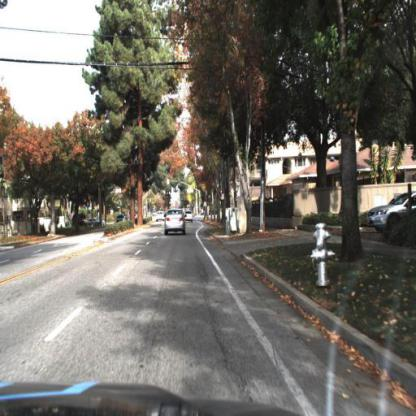car: (369, 193, 416, 240), (159, 203, 194, 244), (182, 204, 196, 225), (113, 211, 128, 228), (156, 212, 168, 225)
